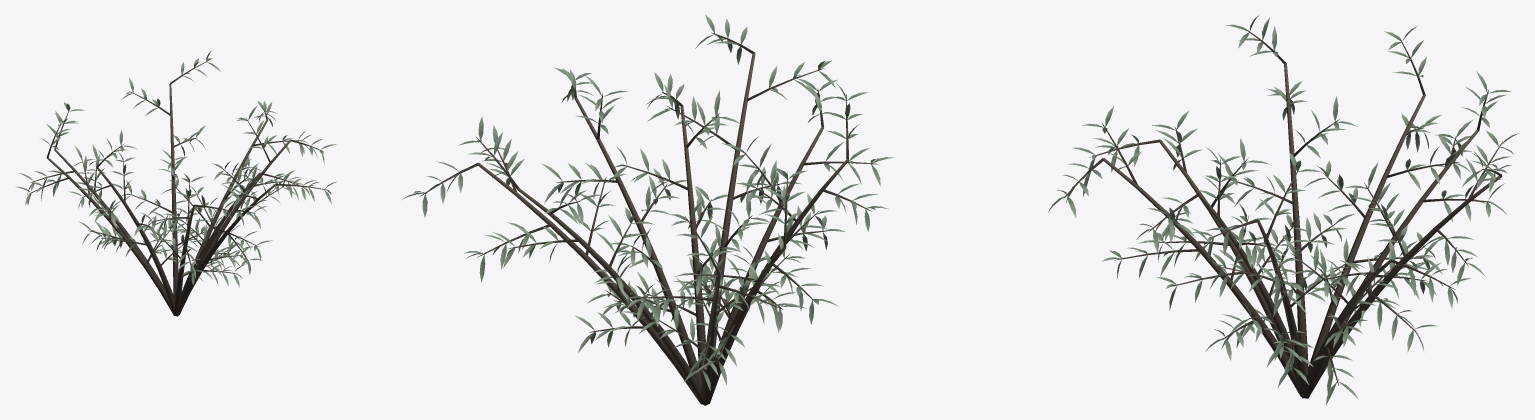
File: seabuckthorn.glb
3 renders of one model, left to right at view 1: azimuth 30°, elevation 25°; view 2: azimuth 150°, elevation 25°; view 3: azimuth 270°, elevation 25°, orthographic. The views are drawn at different scales.
Parts seen in each view (by area): view 1: seabuckthorn; view 2: seabuckthorn; view 3: seabuckthorn.
Boxes of the visible parts, x1=… form: seabuckthorn: x1=15, y1=50, x2=336, y2=316; seabuckthorn: x1=402, y1=14, x2=893, y2=405; seabuckthorn: x1=1048, y1=14, x2=1518, y2=404.
Size of the model in its own units: 1.46 by 1.11 by 1.44.
Materials: 1 (1 with a texture image).
